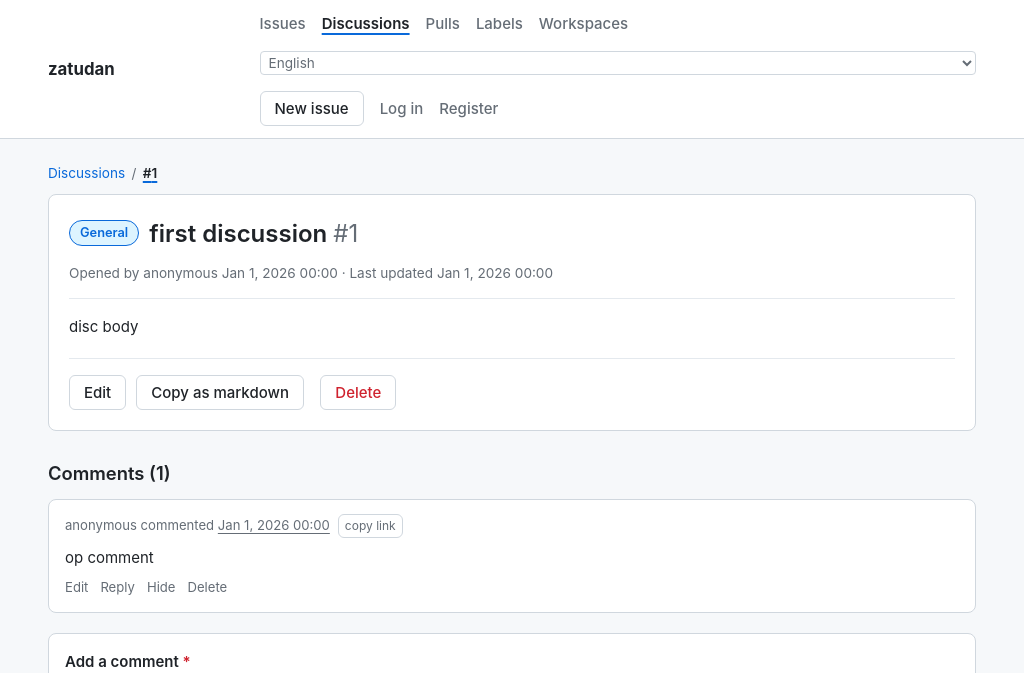
route: /w/{ws}/discussions/{id} › keeps a collapsed reply draft and restores it on reopen
The width and height of the screenshot is (1024, 673).
Check: the text "op comment" is shown, box [65,548,154,567]
Click the button "Reply". click: (118,588)
box: [100,578,135,598]
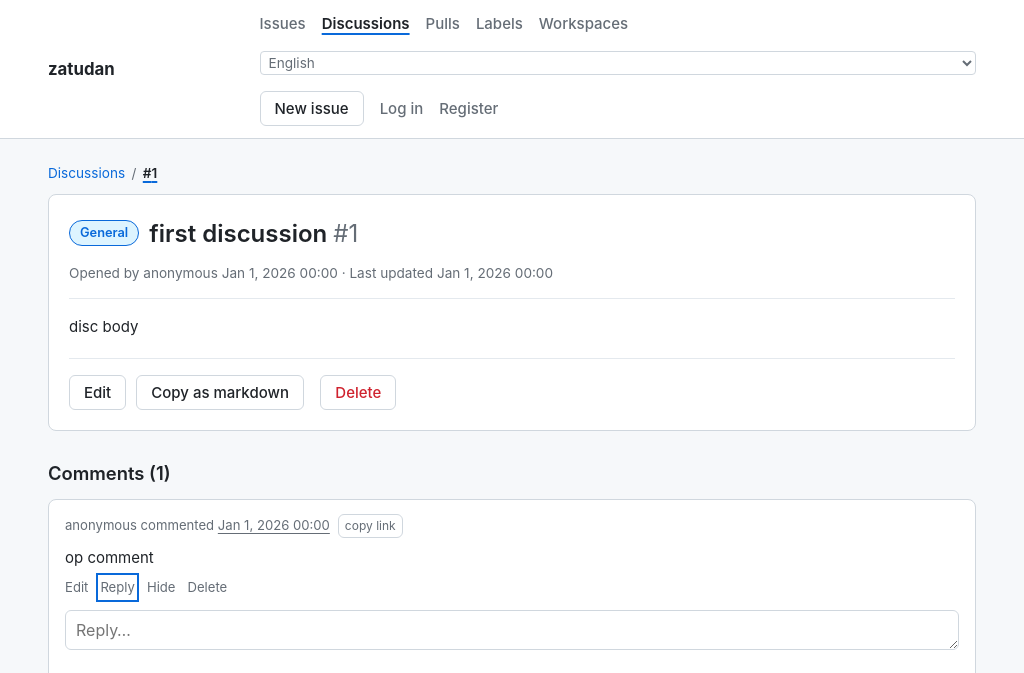
Type "half-written reply" into the text box with placeholder "Reply…". click: (512,630)
box: [65,610,959,651]
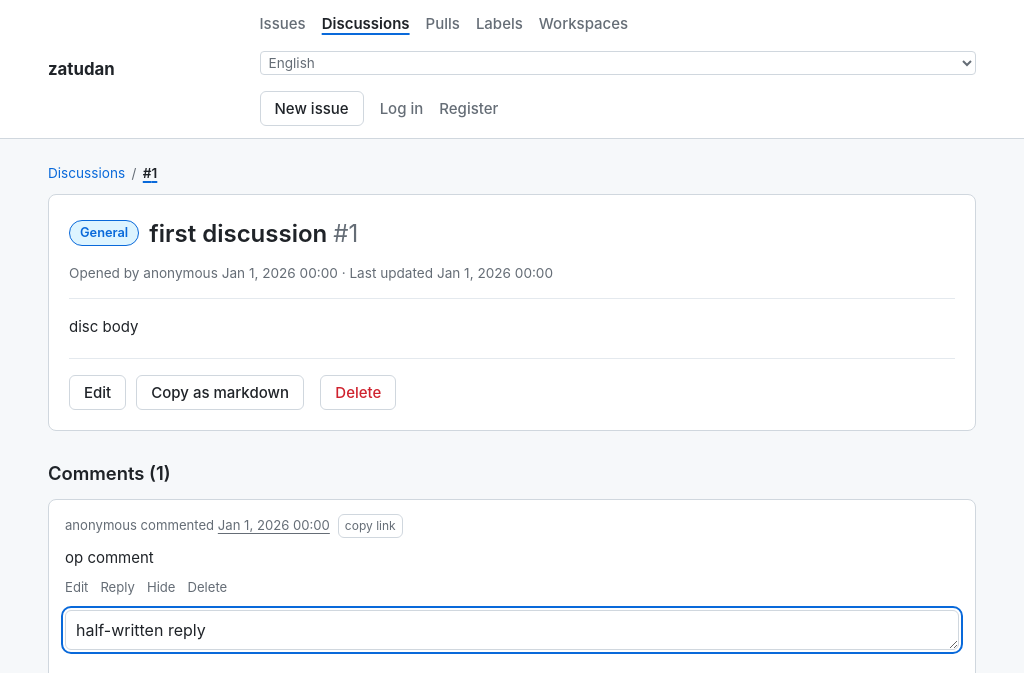
Click the 1st button "Reply". click: (118,588)
box: [100,578,135,598]
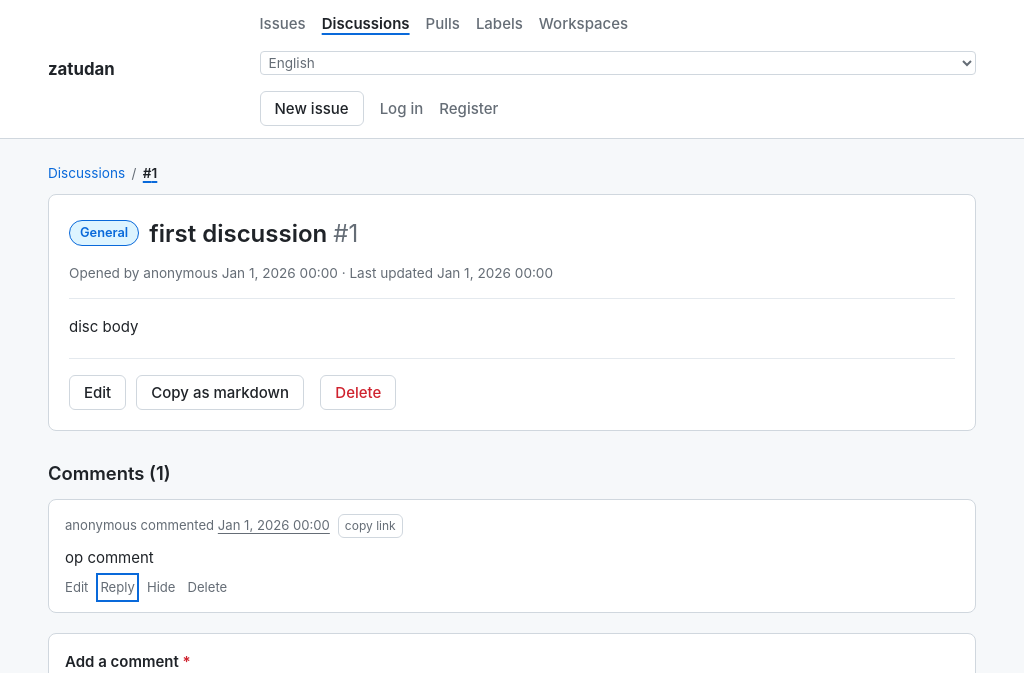
Click the button "Reply". click: (118,588)
box: [100,578,135,598]
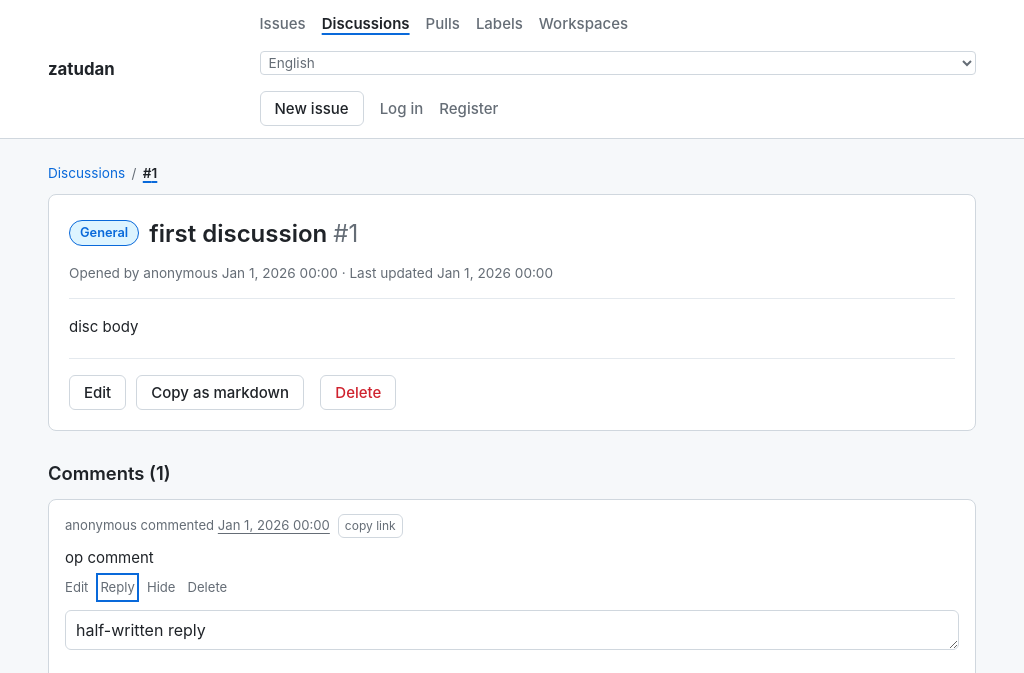
Check: the text box with placeholder "Reply…" holds "half-written reply", box [65,610,959,651]
